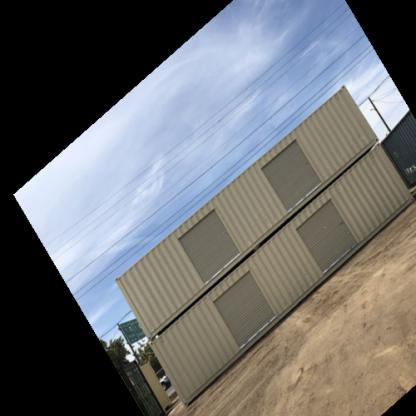Damage: (298, 156, 316, 166), (335, 216, 346, 230)
